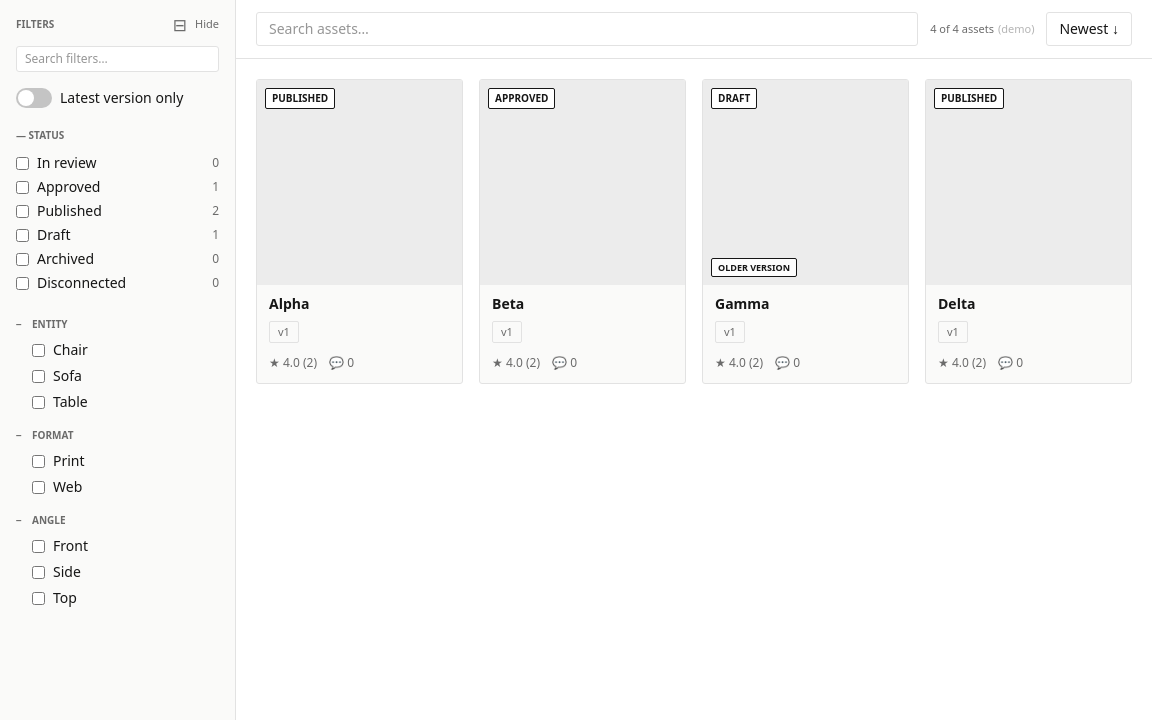
it: GalleryView — the grid reflects the filters › unchecking a tag restores the grid
What coordinates should you click on to do the following:
click the checkbox labelled "Sofa"
I would click on:
 (38, 376)
Its box is [32, 370, 45, 382].
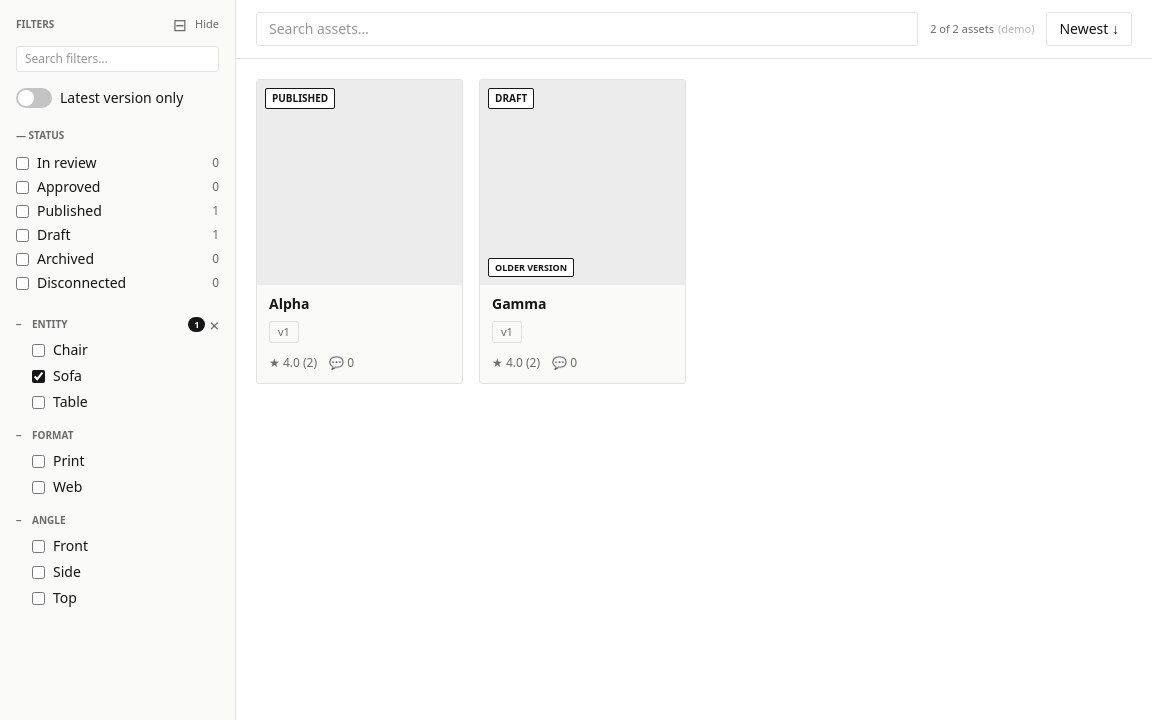
Expected: the number of headings is 2, [269, 294, 310, 313]; [492, 294, 546, 313]
What coordinates should you click on to do the following:
click the checkbox labelled "Sofa"
I would click on:
 (38, 376)
Its box is [32, 370, 45, 383].
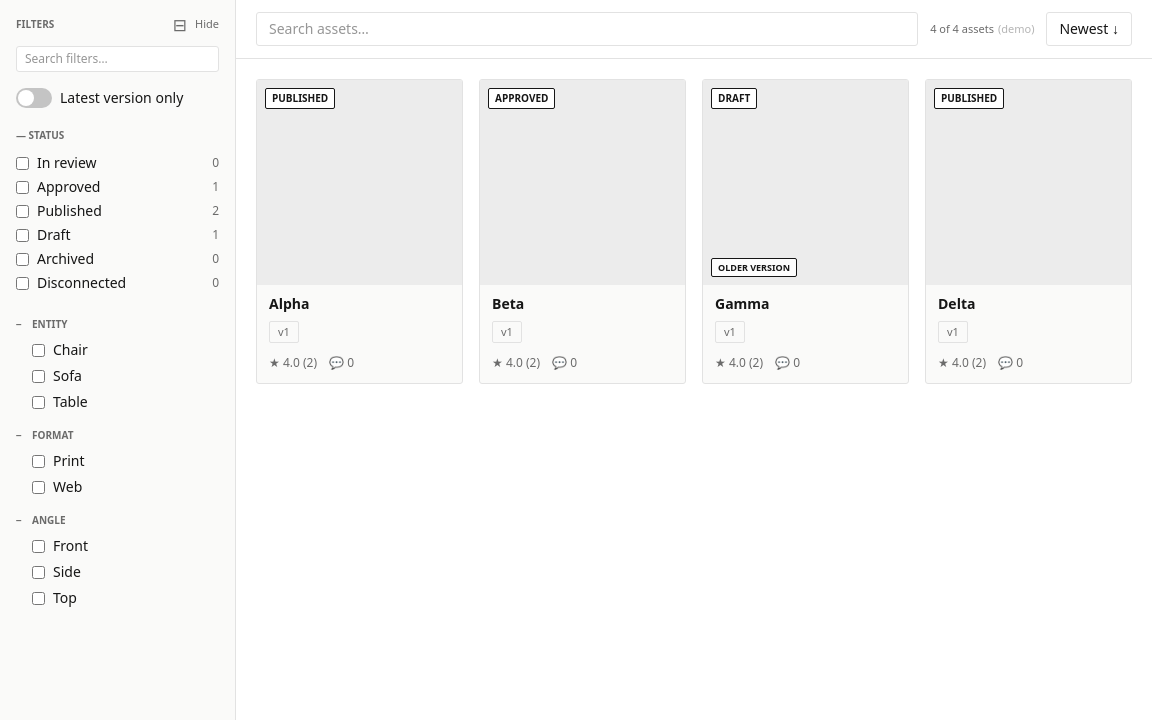
Expected: the number of headings is 4, [269, 294, 310, 313]; [492, 294, 524, 313]; [715, 294, 770, 313]; [938, 294, 975, 313]
